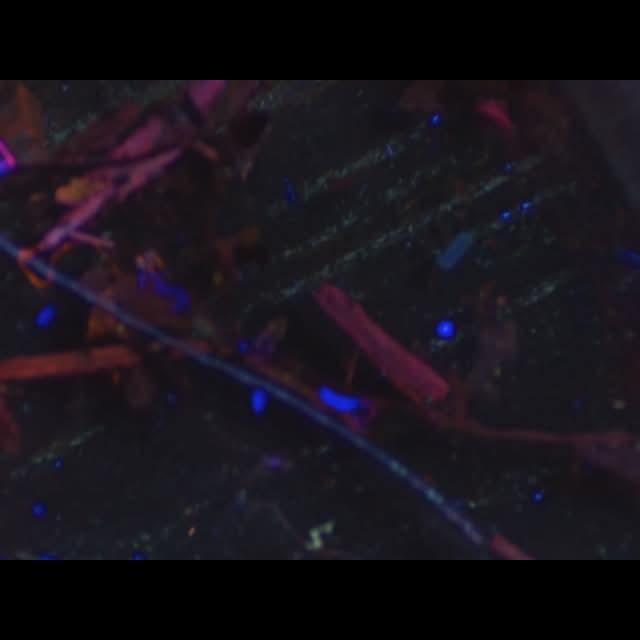Fibre: (304, 522, 334, 552)
